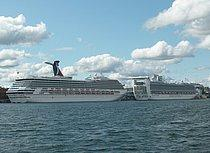Ship: (4, 57, 133, 107), (128, 71, 207, 106)
